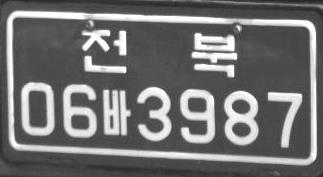0: (20, 80, 55, 136)
3: (136, 86, 172, 142)
6: (62, 84, 97, 137)
7: (266, 91, 302, 148)
8: (223, 89, 259, 146)
9: (179, 88, 215, 143)
바: (103, 89, 131, 135)
전북_D: (81, 27, 238, 78)
